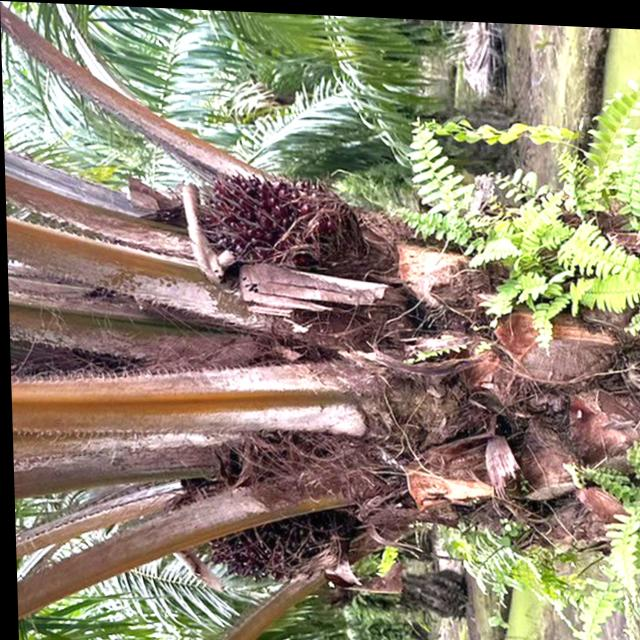ripe: (198, 160, 359, 286)
